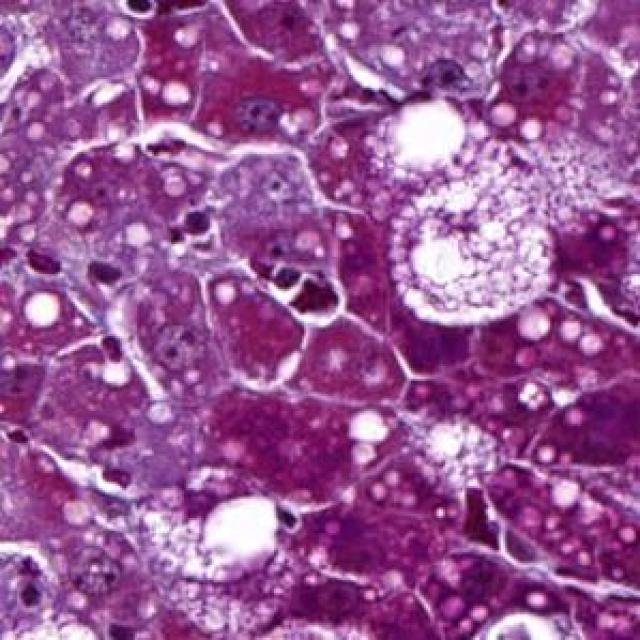ballooning: (385, 173, 559, 332)
